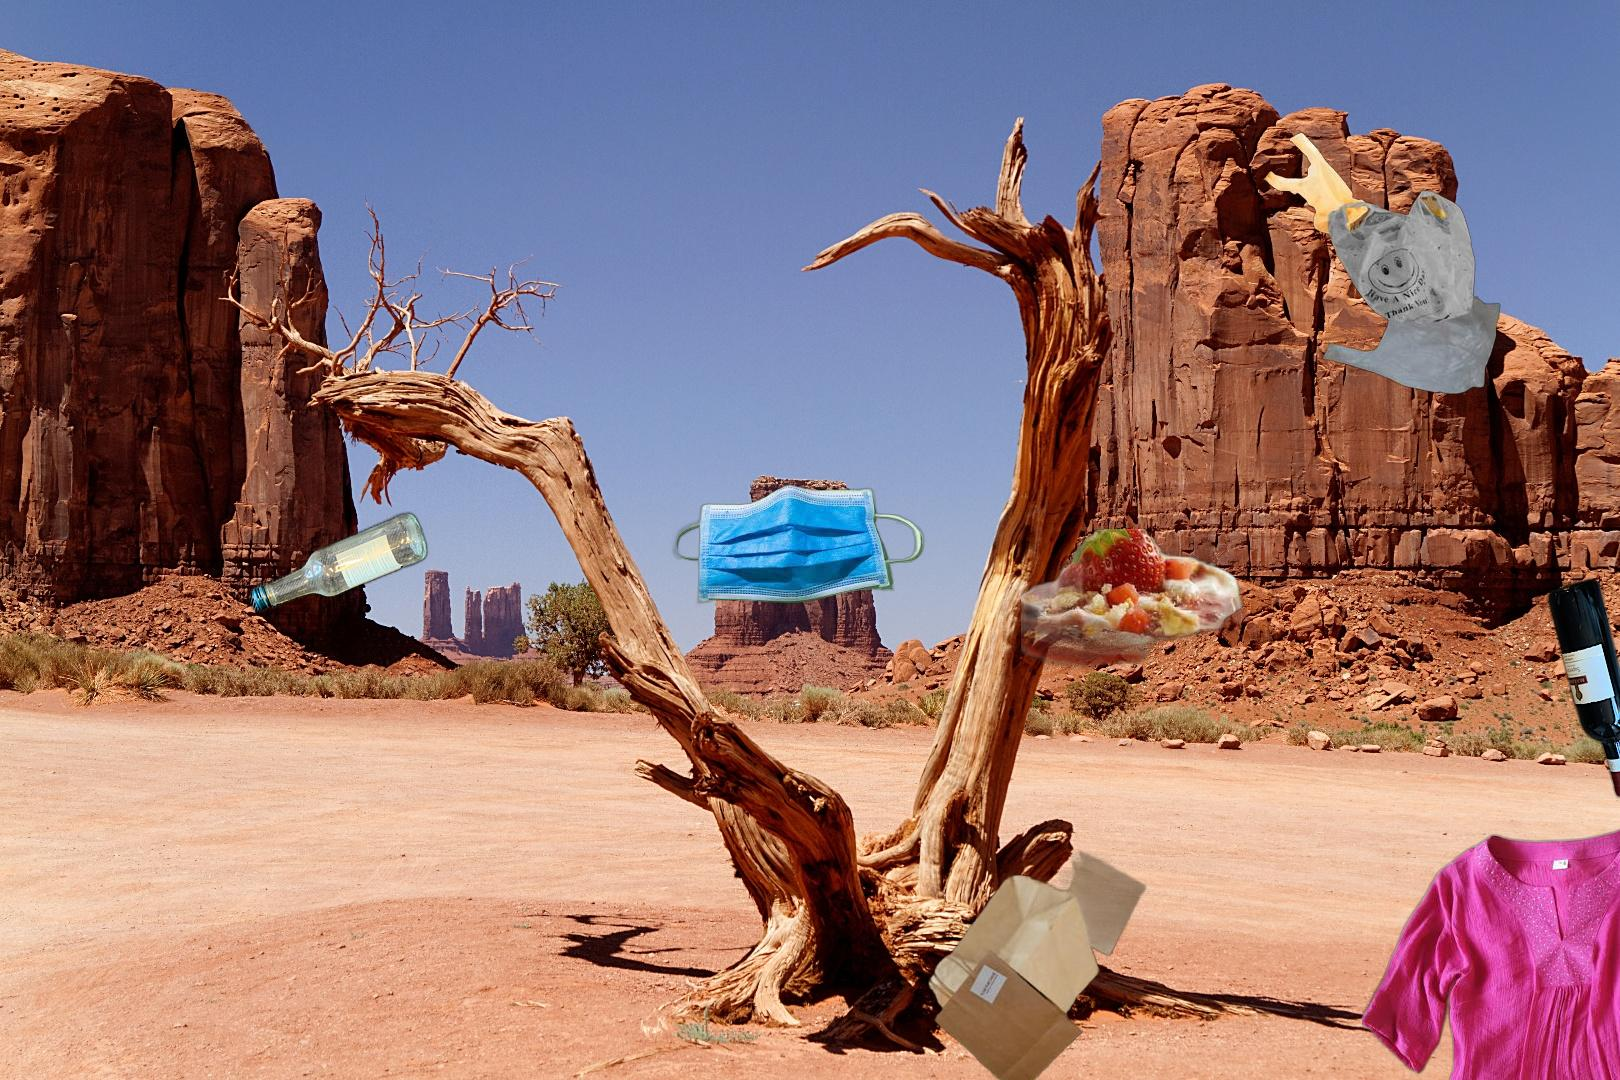biological: (1021, 529, 1286, 712)
clothes: (1362, 818, 1620, 1080)
glass: (59, 507, 432, 1003), (1544, 573, 1620, 804)
paper-bag: (926, 844, 1149, 1080)
penholder: (1113, 413, 1620, 1080)
plastic-bag: (1213, 119, 1503, 419)
trash: (670, 481, 927, 609)
